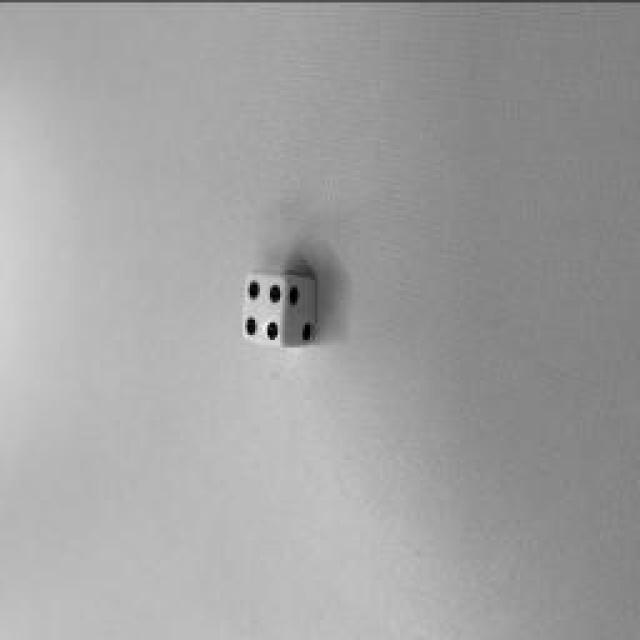dice_4: (244, 273, 286, 345)
